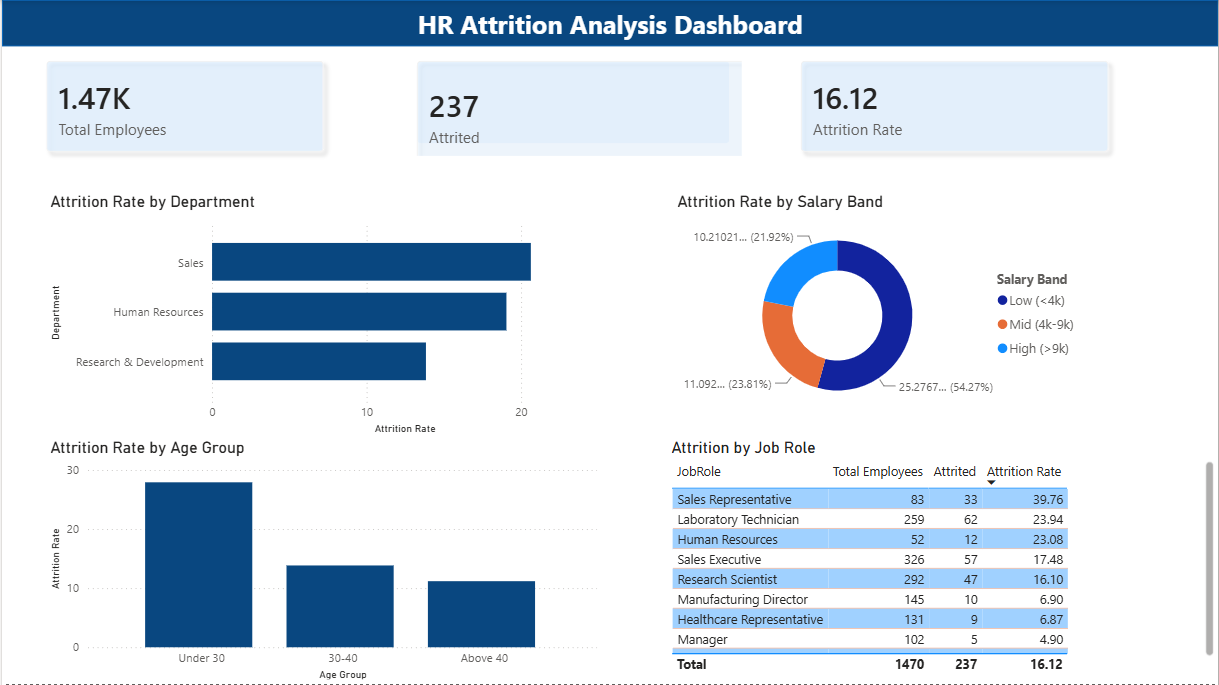

This screenshot's page, from the dashboard's own definition file:
{"tool":"powerbi","page":{"name":"Page 1","canvas":[1280,720],"ordinal":0},"visuals":[{"type":"cardVisual","fields":{"Data":["Employees.Total Employees"]},"box":[17.4,34.7,350.5,154.7],"z":0},{"type":"cardVisual","fields":{"Data":["Employees.Attrition Rate"]},"box":[811.6,34.7,371.1,146.8],"z":2},{"type":"cardVisual","fields":{"Data":["Employees.Attrited"]},"box":[407.4,34.7,390,146.8],"z":3},{"type":"clusteredBarChart","fields":{"Category":["Employees.Department"],"Y":["Employees.Attrition Rate"]},"box":[45.8,202.1,593.7,259],"z":4},{"type":"clusteredColumnChart","fields":{"Y":["Employees.Attrition Rate"],"Category":["Employees.Age Group"]},"box":[45.8,461.1,585.8,259],"z":5},{"type":"tableEx","title":"Attrition by Job Role","fields":{"Values":["Employees.JobRole","Employees.Total Employees","Employees.Attrited","Employees.Attrition Rate"]},"box":[699.5,461.1,581.1,252.6],"z":6},{"type":"donutChart","fields":{"Category":["Employees.Salary Band"],"Y":["Employees.Attrition Rate"]},"box":[705.8,202.1,437.4,240],"z":7},{"type":"shape","box":[0,0,1280.5,48.9],"z":8}]}

Visuals, with their boxes in screenshot pixels (x1, y1, x2, y2), scaled from the page's 1280x720 canvas onto the 1219x685 screenshot:
cardVisual - Employees.Total Employees: rect(17, 33, 350, 180)
cardVisual - Employees.Attrition Rate: rect(773, 33, 1126, 173)
cardVisual - Employees.Attrited: rect(388, 33, 759, 173)
clusteredBarChart - Employees.Department x Employees.Attrition Rate: rect(44, 192, 609, 439)
clusteredColumnChart - Employees.Attrition Rate x Employees.Age Group: rect(44, 439, 602, 684)
"Attrition by Job Role" tableEx: rect(666, 439, 1218, 679)
donutChart - Employees.Salary Band x Employees.Attrition Rate: rect(672, 192, 1089, 421)
shape: rect(0, 0, 1218, 47)
